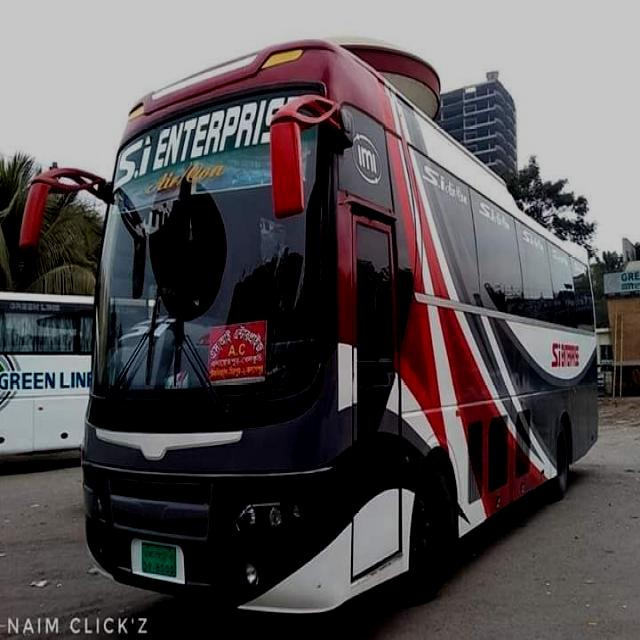bus: (19, 36, 601, 614)
